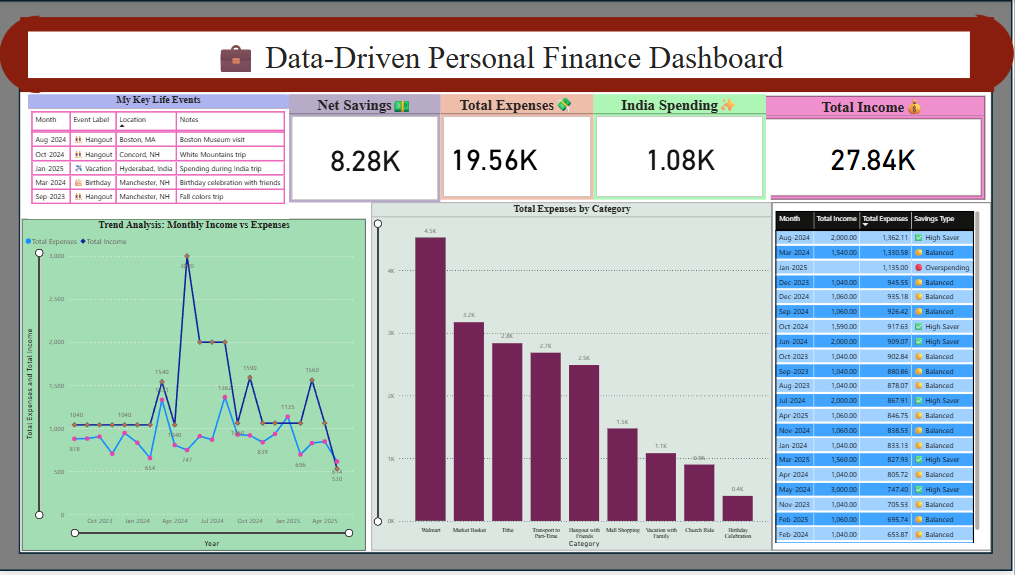

This screenshot's page, from the dashboard's own definition file:
{"tool":"powerbi","page":{"name":"Page 1","canvas":[1920,1080],"ordinal":0},"visuals":[{"type":"cardVisual","title":"Total Income💰","fields":{"Data":["Expenses.TotalIncome"]},"box":[1440,181.4,425.2,195.6],"z":0},{"type":"lineChart","title":"Trend Analysis: Monthly Income vs Expenses","fields":{"Category":["Calendar.Date.Variation.Date Hierarchy.Year","Calendar.Date.Variation.Date Hierarchy.Month"],"Y":["Expenses.Total Expenses","Expenses.Total Income"]},"box":[45.4,413.9,649.1,626.5],"z":1000},{"type":"columnChart","fields":{"Category":["Expenses.Category"],"Y":["Expenses.Total Expenses"]},"box":[705.8,382.7,756.9,657.6],"z":2000},{"type":"tableEx","fields":{"Values":["Calendar.Month","Expenses.Total Income","Expenses.Total Expenses","Bugeting.Savings Type"]},"box":[1462.7,382.7,413.9,657.6],"z":3000},{"type":"tableEx","title":"My Key Life Events","fields":{"Values":["Calendar.Month","Expenses.Event Label","Expenses.Location","Expenses.Notes"]},"box":[56.7,178.6,493.2,235.3],"z":4000},{"type":"cardVisual","title":"Total Expenses💸","fields":{"Data":["Expenses.Total Expenses"]},"box":[836.2,178.6,289.1,198.4],"z":5000},{"type":"cardVisual","title":"Net Savings💵","fields":{"Data":["Expenses.Net Savings"]},"box":[549.9,178.6,286.3,204.1],"z":6000},{"type":"cardVisual","title":"India Spending✨","fields":{"Data":["Expenses.India Spending"]},"box":[1125.4,178.6,326,198.4],"z":7000},{"type":"textbox","box":[56.7,59.5,1780.2,87.9],"z":8000}]}

Visuals, with their boxes in screenshot pixels (x1, y1, x2, y2), scaled from the page's 1920x1080 canvas onto the 1015x575 screenshot:
"Total Income💰" cardVisual: x1=761 y1=97 x2=986 y2=201
"Trend Analysis: Monthly Income vs Expenses" lineChart: x1=24 y1=220 x2=367 y2=554
columnChart - Expenses.Category x Expenses.Total Expenses: x1=373 y1=204 x2=773 y2=554
tableEx - Calendar.Month x Expenses.Total Income: x1=773 y1=204 x2=992 y2=554
"My Key Life Events" tableEx: x1=30 y1=95 x2=291 y2=220
"Total Expenses💸" cardVisual: x1=442 y1=95 x2=595 y2=201
"Net Savings💵" cardVisual: x1=291 y1=95 x2=442 y2=204
"India Spending✨" cardVisual: x1=595 y1=95 x2=767 y2=201
textbox: x1=30 y1=32 x2=971 y2=78
